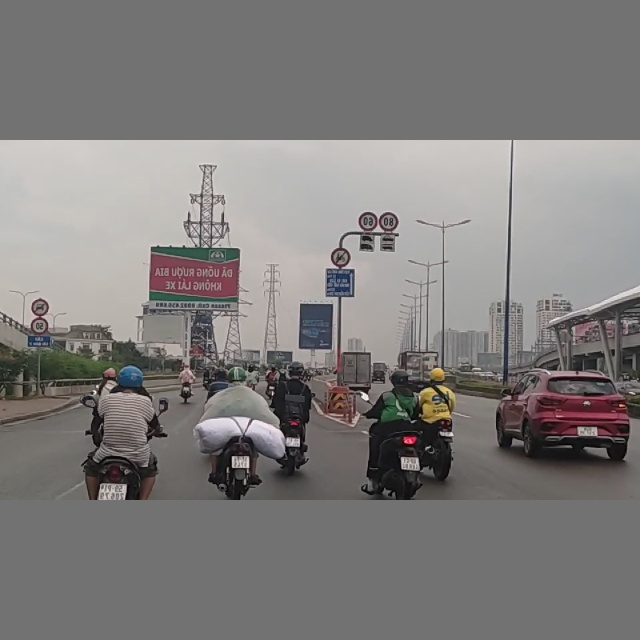P.103a: (31, 296, 48, 315)
P.104: (329, 247, 351, 265)
P.127*50: (31, 316, 48, 333)
P.127*60: (357, 211, 377, 231)
P.127*80: (379, 211, 401, 231)
